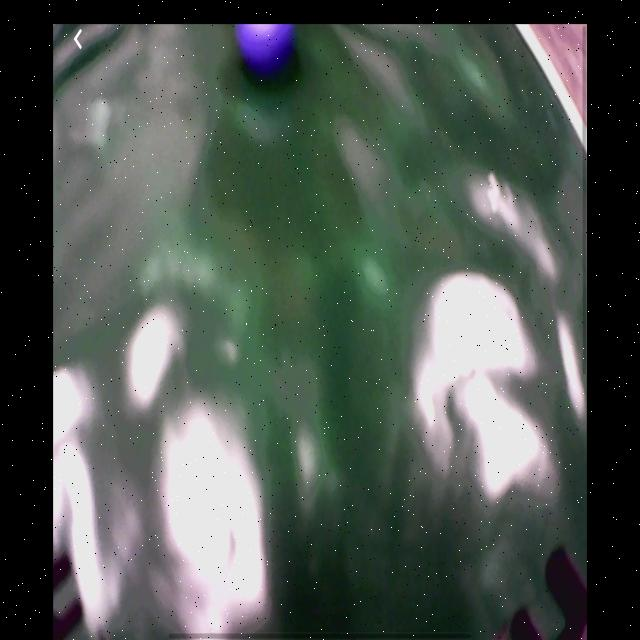ball: (232, 21, 299, 73)
